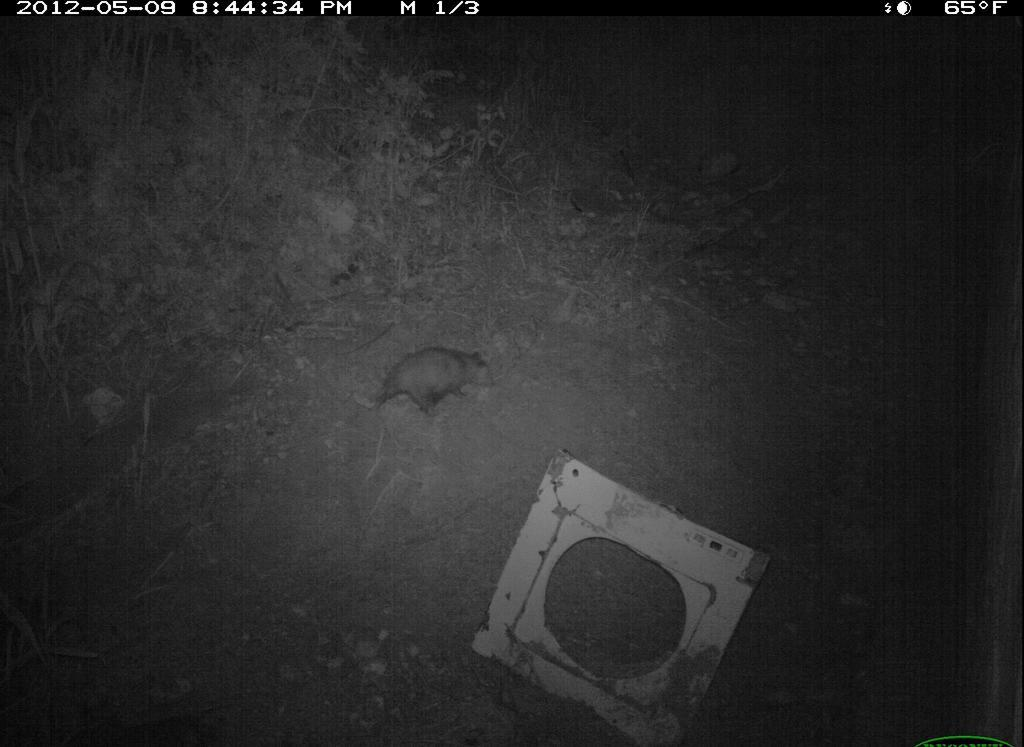opossum: (350, 345, 504, 423)
